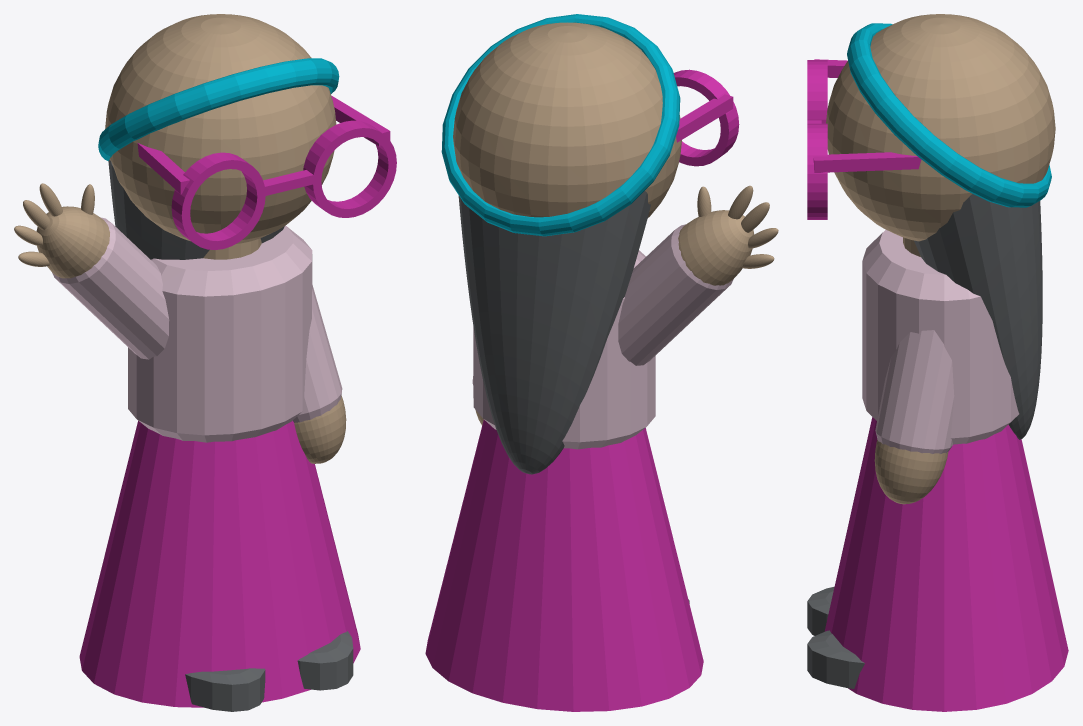
3 renders of one model, left to right at view 1: azimuth 30°, elevation 25°; view 2: azimuth 150°, elevation 25°; view 3: azimuth 270°, elevation 25°, orthographic.
Parts seen in each view (by area): view 1: Mesh_Mesh_head_geo.001_lambert2SG.001; view 2: Mesh_Mesh_head_geo.001_lambert2SG.001; view 3: Mesh_Mesh_head_geo.001_lambert2SG.001.
Part boxes in pixels (<box>): Mesh_Mesh_head_geo.001_lambert2SG.001: <box>14,14,396,711</box>; Mesh_Mesh_head_geo.001_lambert2SG.001: <box>425,14,778,711</box>; Mesh_Mesh_head_geo.001_lambert2SG.001: <box>807,14,1068,711</box>.
Bounding box in the file's own units: 18.75 × 33.49 × 12.67.
